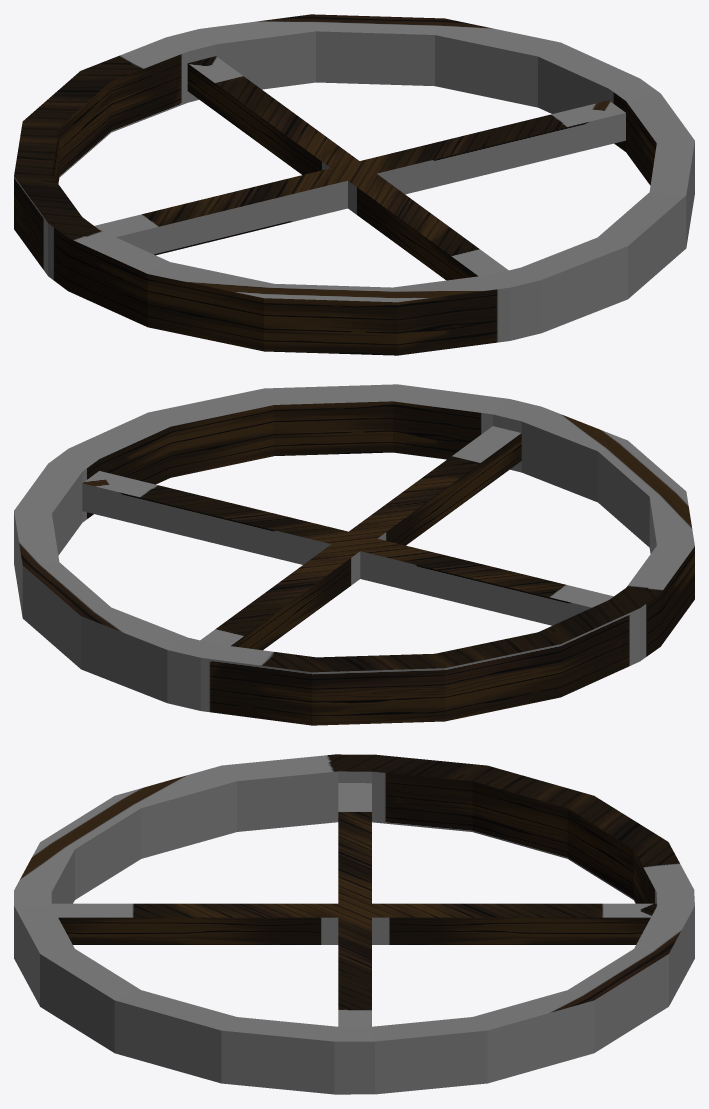
Rendered from Window.fbx.
3 renders of one model, top to bottom at view 1: azimuth 30°, elevation 25°; view 2: azimuth 150°, elevation 25°; view 3: azimuth 270°, elevation 25°, orthographic.
Visible parts, largest first — view 1: Window; view 2: Window; view 3: Window.
Part boxes in pixels (x1,y1,x2,y2): Window: [14, 14, 694, 355]; Window: [14, 384, 694, 725]; Window: [14, 754, 694, 1094].
Size of the model in its own units: 1.75 by 1.76 by 0.1505.
Materials: 1 (1 with a texture image).
